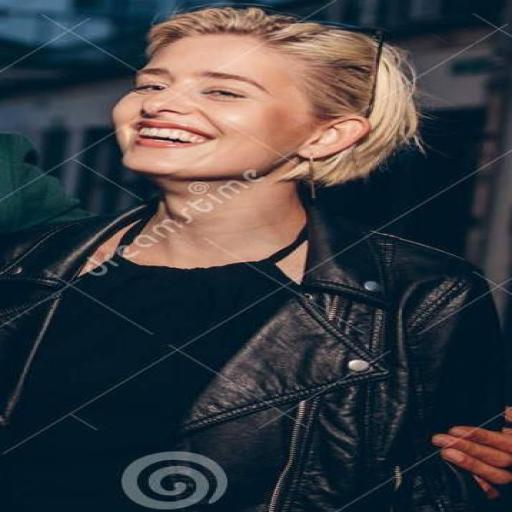person: (0, 8, 510, 511)
